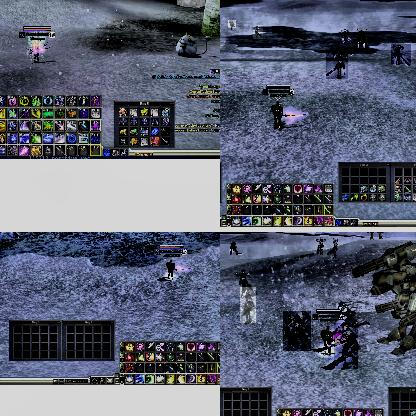caliana: (283, 311, 311, 351), (334, 323, 358, 369), (326, 51, 348, 79), (240, 287, 256, 323), (391, 44, 411, 64), (327, 237, 339, 257), (316, 236, 326, 254), (340, 29, 352, 43), (253, 25, 263, 39), (228, 20, 236, 28)
